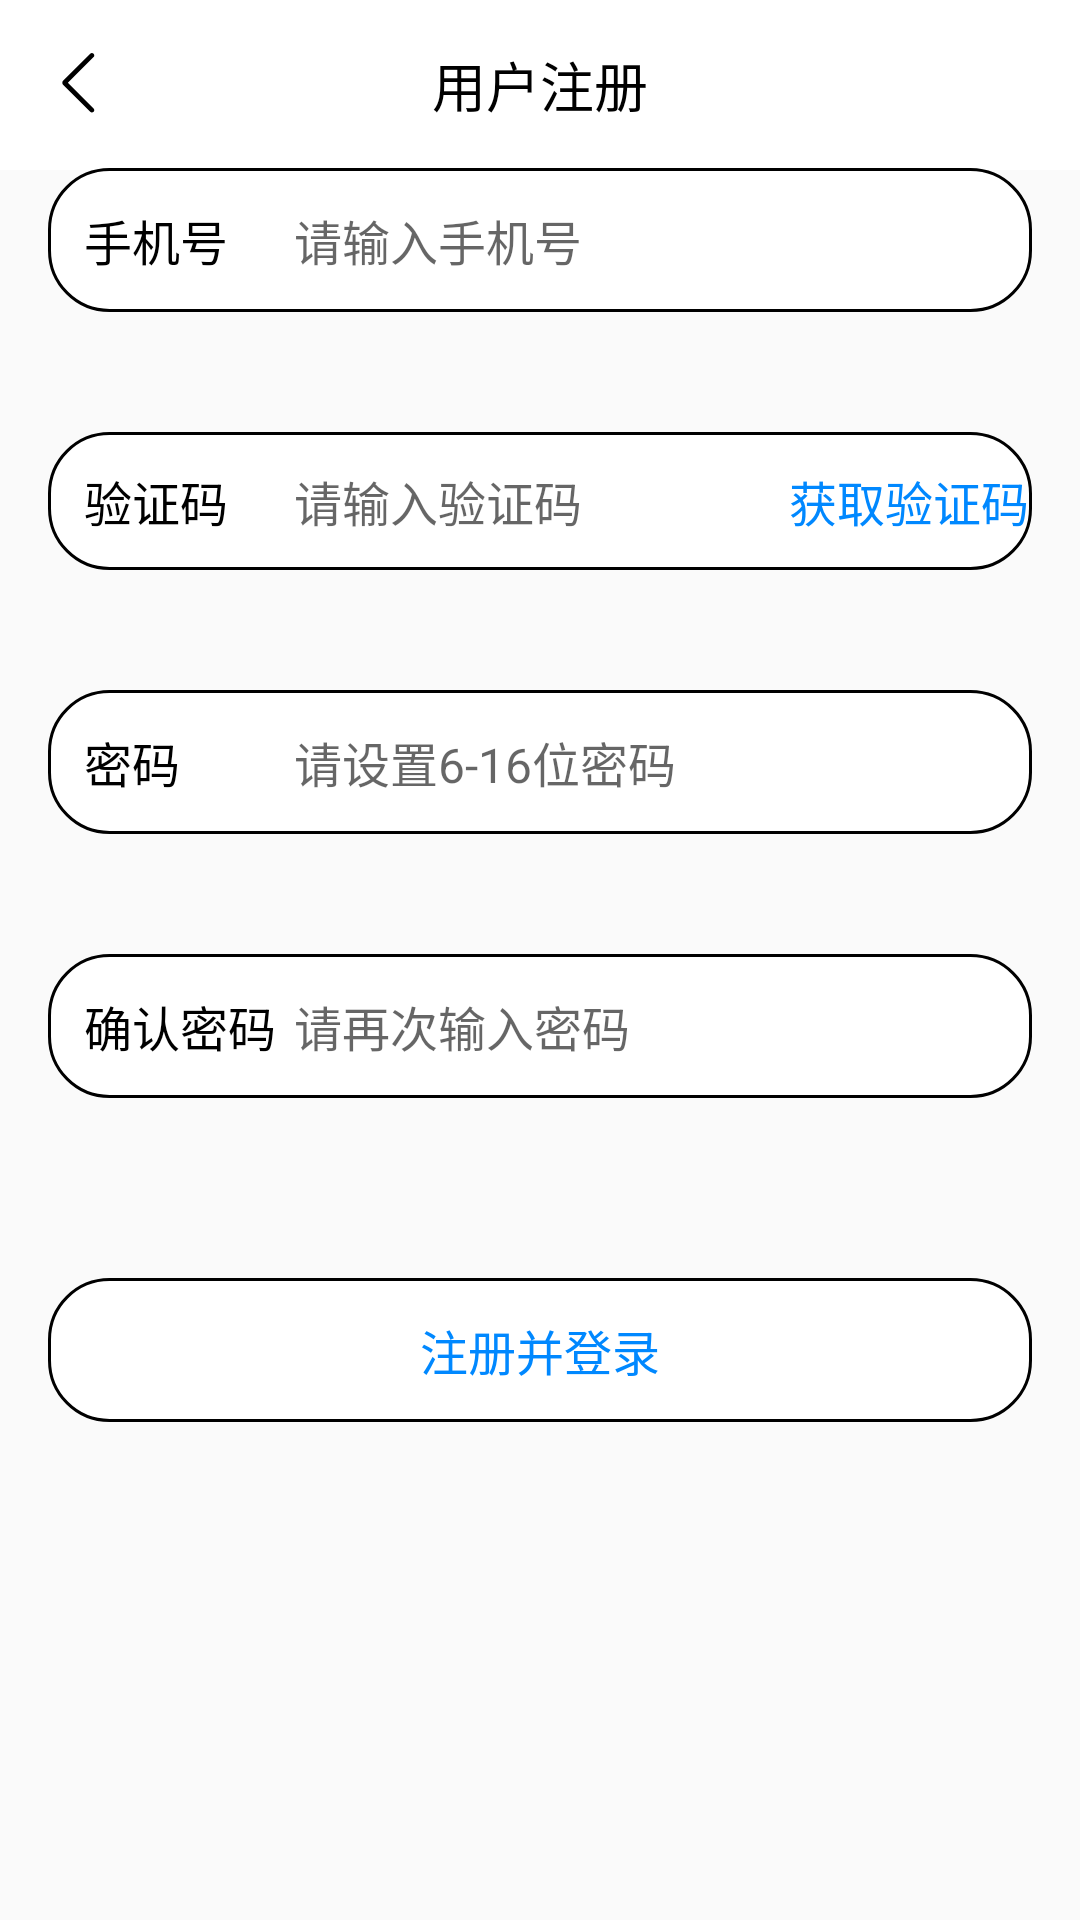

Point at icon controls on the screen. Image size 1080*1920, points as point (x, y).
back: point (78, 83)
